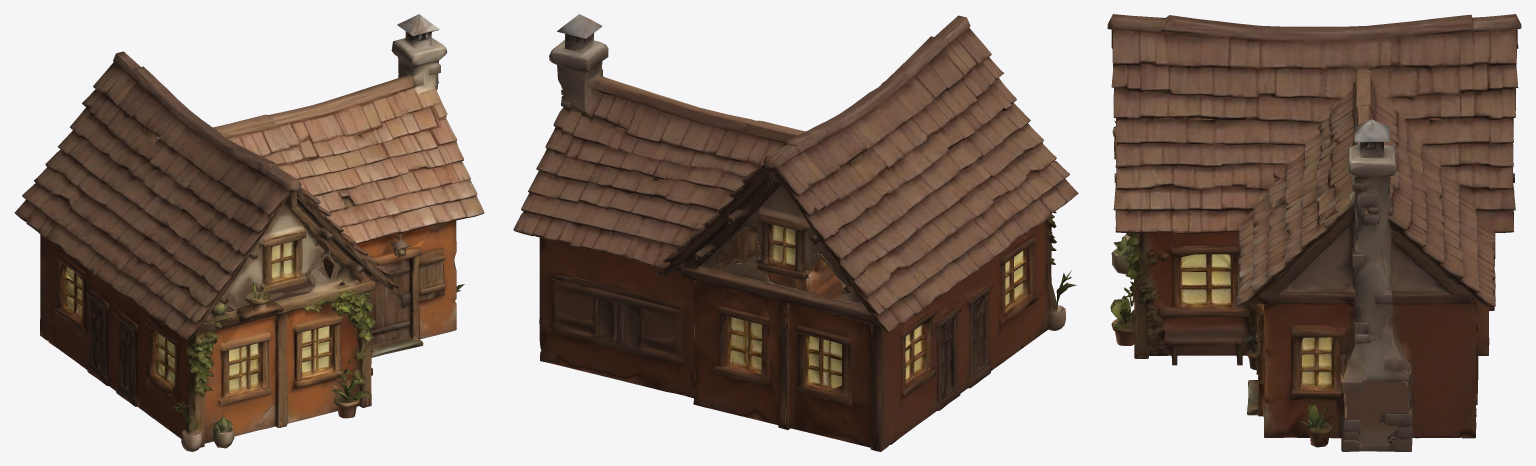
Rendered from casa.glb.
3 renders of one model, left to right at view 1: azimuth 30°, elevation 25°; view 2: azimuth 150°, elevation 25°; view 3: azimuth 270°, elevation 25°, orthographic. The views are drawn at different scales.
Parts seen in each view (by area): view 1: casa; view 2: casa; view 3: casa.
Part boxes in pixels (<box>): casa: <box>14,14,484,451</box>; casa: <box>513,14,1078,451</box>; casa: <box>1107,14,1521,451</box>.
Bounding box in the file's own units: 9 × 6.57 × 7.59.
Materials: 1 (1 with a texture image).
